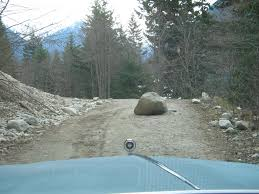obstacle: (134, 90, 168, 117)
